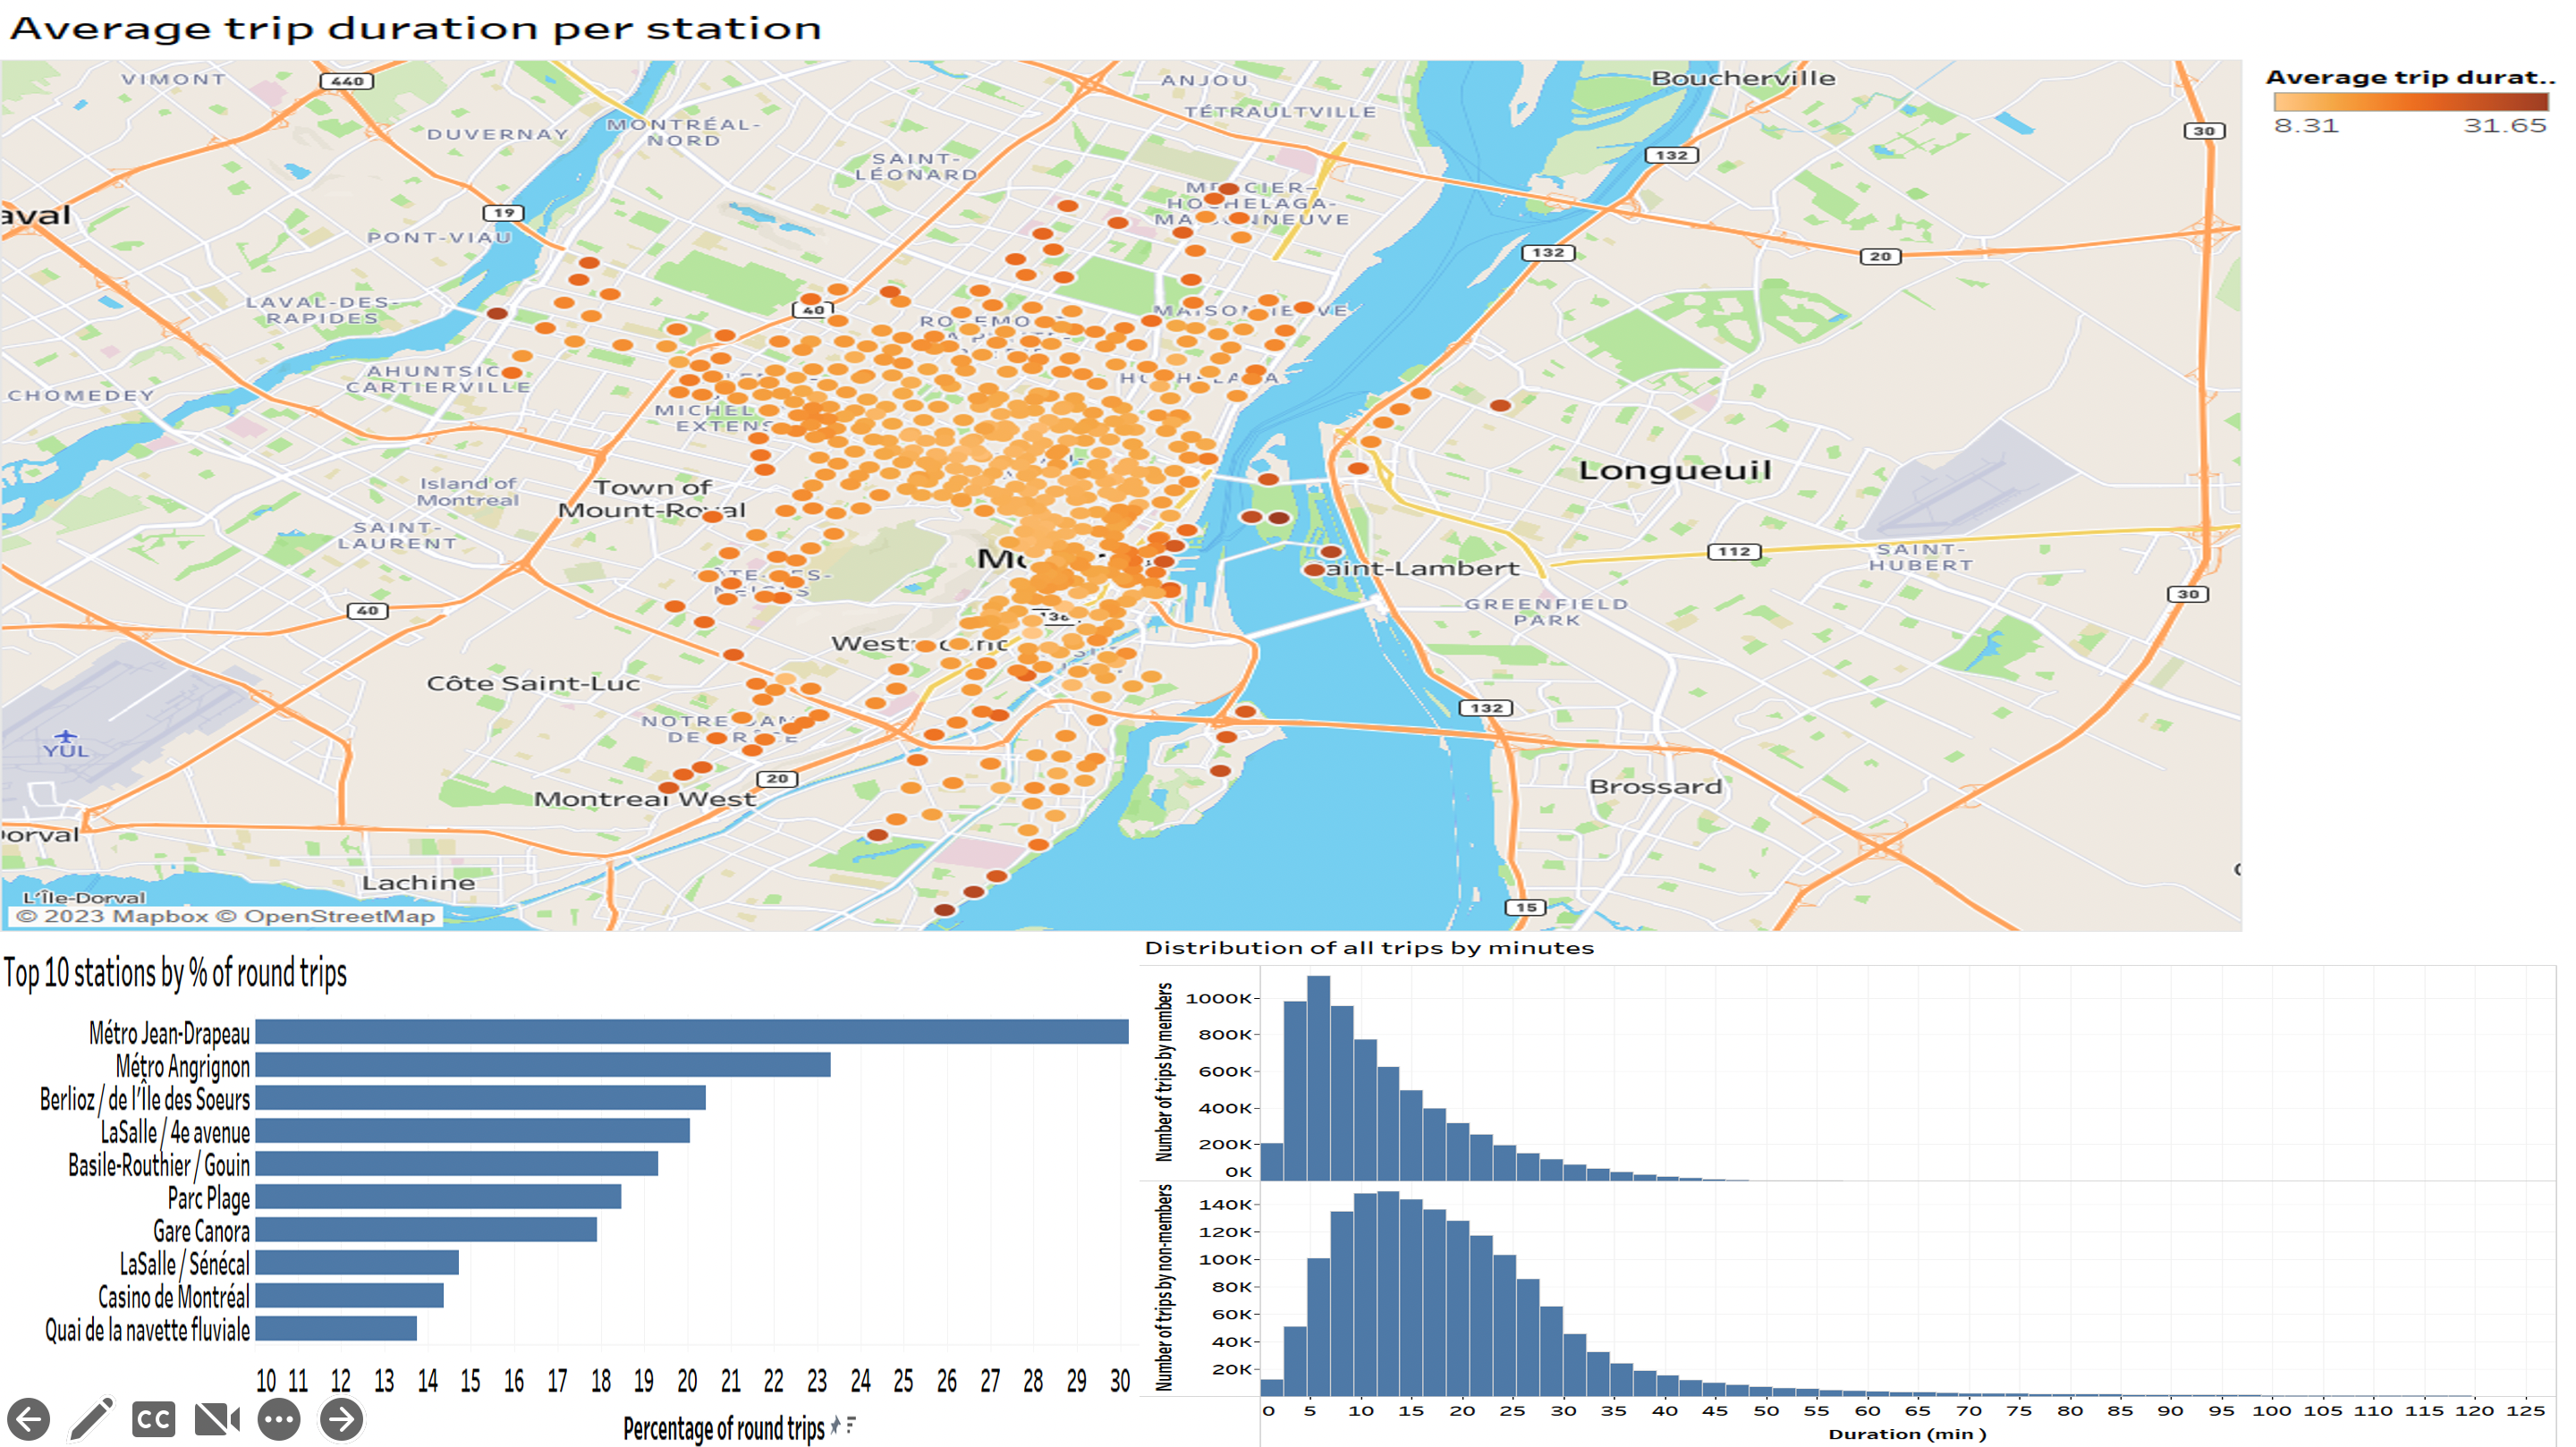

This screenshot's page, from the dashboard's own definition file:
{"tool":"tableau","page":{"name":"Dashboard 1","canvas":[1366,768],"ordinal":0},"visuals":[{"type":"worksheet","title":"Q1.1","mark":"Bar","rows":["start_date","start_date"],"cols":["id"],"box":[8,8,1190,376]},{"type":"legend","title":"New","param":"[federated.1wfsopn0d1siju154uyhd1yan7ad].[:Measure Names]","box":[1198,8,160,72]},{"type":"legend","title":"Q2.3","param":"[federated.1wfsopn0d1siju154uyhd1yan7ad].[usr:Calculation_959266751109779460:qk]","box":[1198,80,160,73]},{"type":"filter","title":"Q2.3","param":"[federated.1wfsopn0d1siju154uyhd1yan7ad].[none:name:nk]","box":[1198,153,160,607]},{"type":"worksheet","title":"New","mark":"Automatic","rows":["Calculation_1123929612422516759","Percentage of trips by members (copy)_1269170701036924930"],"cols":["start_date","start_date"],"box":[8,384,595,376]},{"type":"worksheet","title":"Q2.3","mark":"Circle","rows":["latitude"],"cols":["longitude"],"box":[603,384,595,376]}]}

Visuals, with their boxes on the page's 1366x768 design canvas (x1, y1, x2, y2). These are canvas units, not pixel positions in the 2576x1447 screenshot, which may show the page scaled, cropped or inside an application window:
"Q1.1" worksheet (Bar marks): (8,8,1198,384)
"New" legend: (1198,8,1358,80)
"Q2.3" legend: (1198,80,1358,153)
"Q2.3" filter: (1198,153,1358,760)
"New" worksheet: (8,384,603,760)
"Q2.3" worksheet (Circle marks): (603,384,1198,760)
